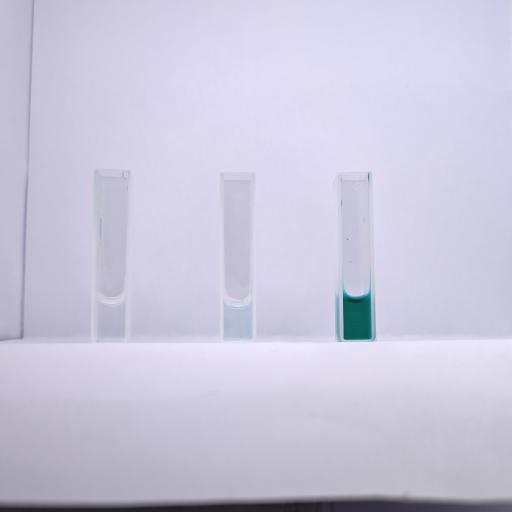cuvette: (90, 165, 133, 348), (336, 169, 378, 345), (217, 169, 259, 344)
liquid: (343, 292, 371, 338), (98, 296, 124, 342), (224, 298, 252, 340)
